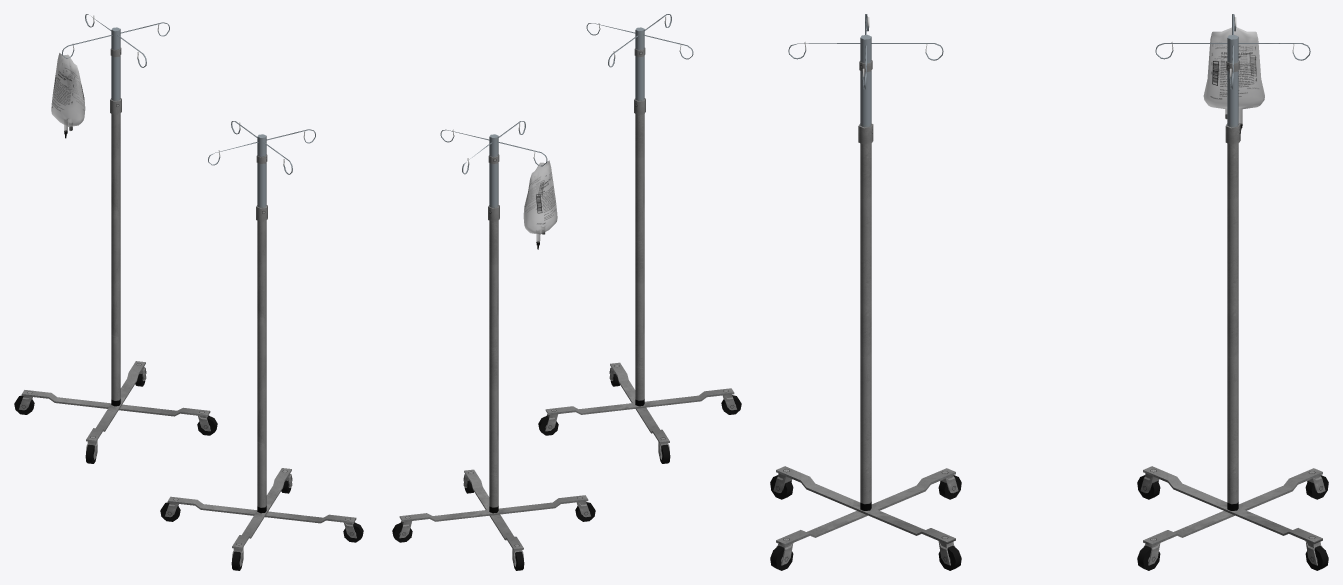
File: iv-pole.glb
3 views of the same model, side by side, from view 1: azimuth 30°, elevation 25°; view 2: azimuth 150°, elevation 25°; view 3: azimuth 270°, elevation 25° (orthographic). The views are drawn at different scales.
Visible parts, largest first — view 1: Object_2; view 2: Object_2; view 3: Object_2.
Part boxes in pixels (x1=…): Object_2: x1=14, y1=14, x2=363, y2=570; Object_2: x1=392, y1=14, x2=741, y2=570; Object_2: x1=770, y1=14, x2=1328, y2=570.
Size of the model in its own units: 4.18 by 11.92 by 12.18.
Materials: 1 (1 with a texture image).
